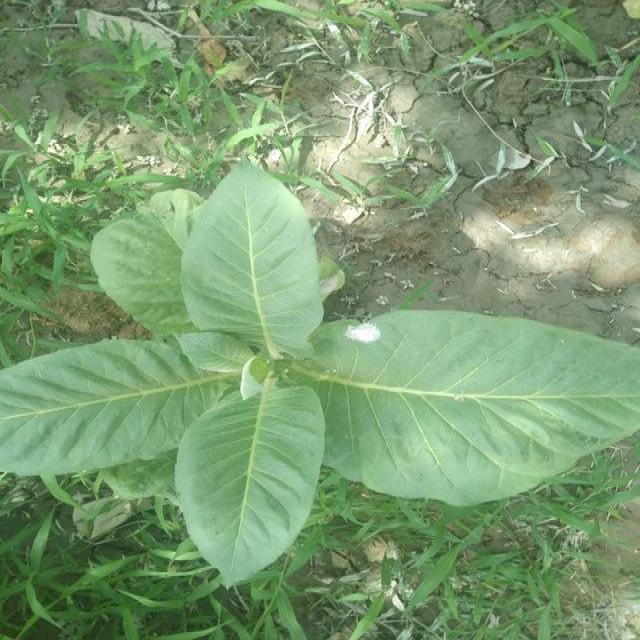crop: (0, 132, 640, 604)
